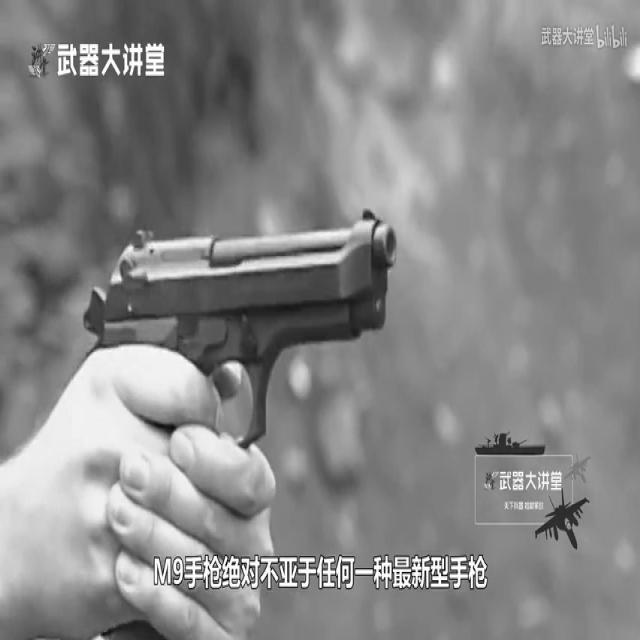Hand-Gun: (79, 196, 413, 633)
